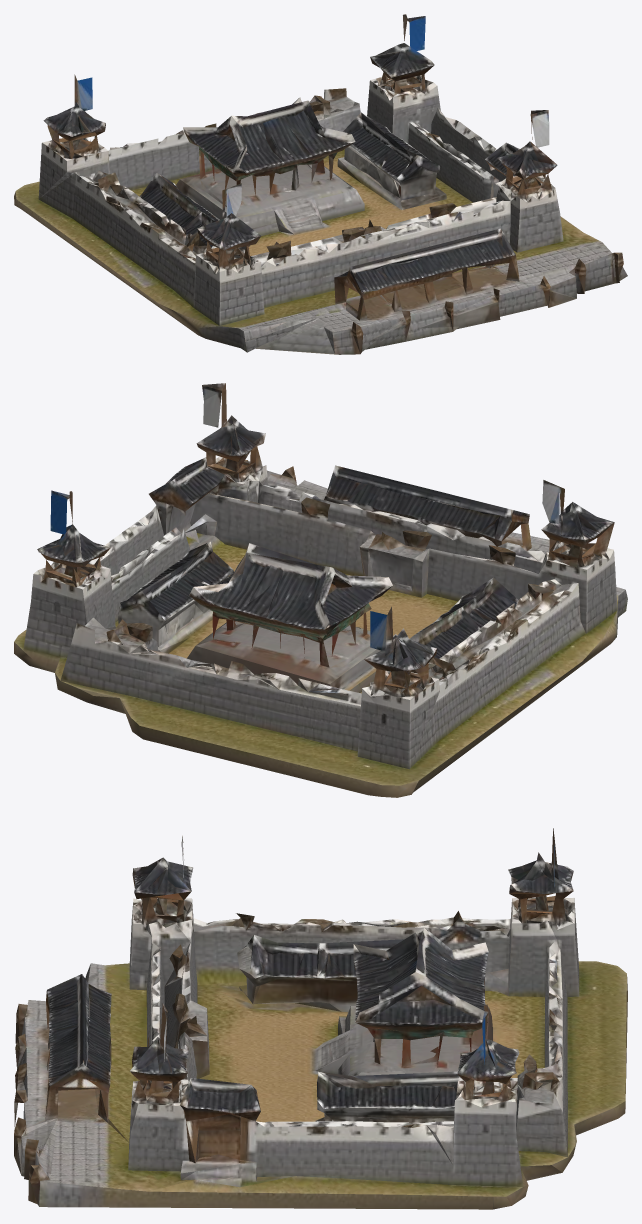
File: camp_joseon_3.glb
The picture shows the model from 3 angles, top to bottom: view 1: azimuth 30°, elevation 25°; view 2: azimuth 150°, elevation 25°; view 3: azimuth 270°, elevation 25°; orthographic projection. The views are drawn at different scales.
Visible parts, largest first — view 1: camp_joseon_3; view 2: camp_joseon_3; view 3: camp_joseon_3.
Part boxes in pixels (x1,y1,x2,y2): camp_joseon_3: (14, 14, 627, 354); camp_joseon_3: (14, 383, 627, 797); camp_joseon_3: (14, 828, 627, 1209).
Size of the model in its own units: 0.9097 by 0.3255 by 1.
Materials: 1 (1 with a texture image).
